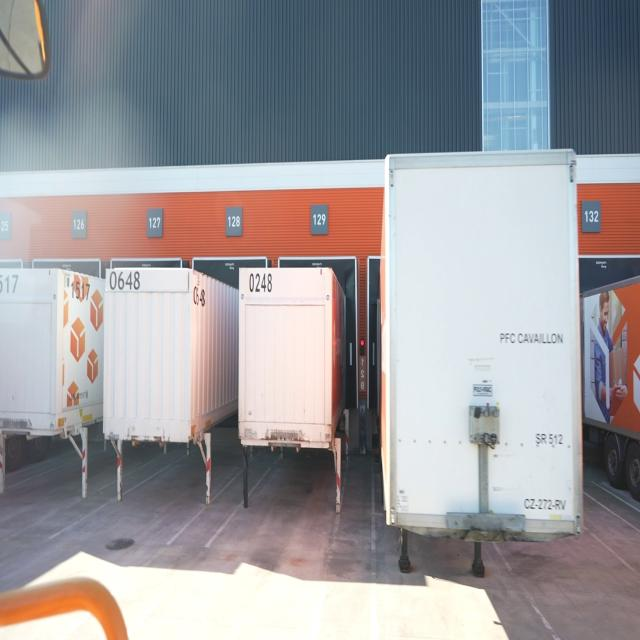Code: (106, 266, 142, 299), (68, 272, 94, 302), (244, 272, 273, 295)
